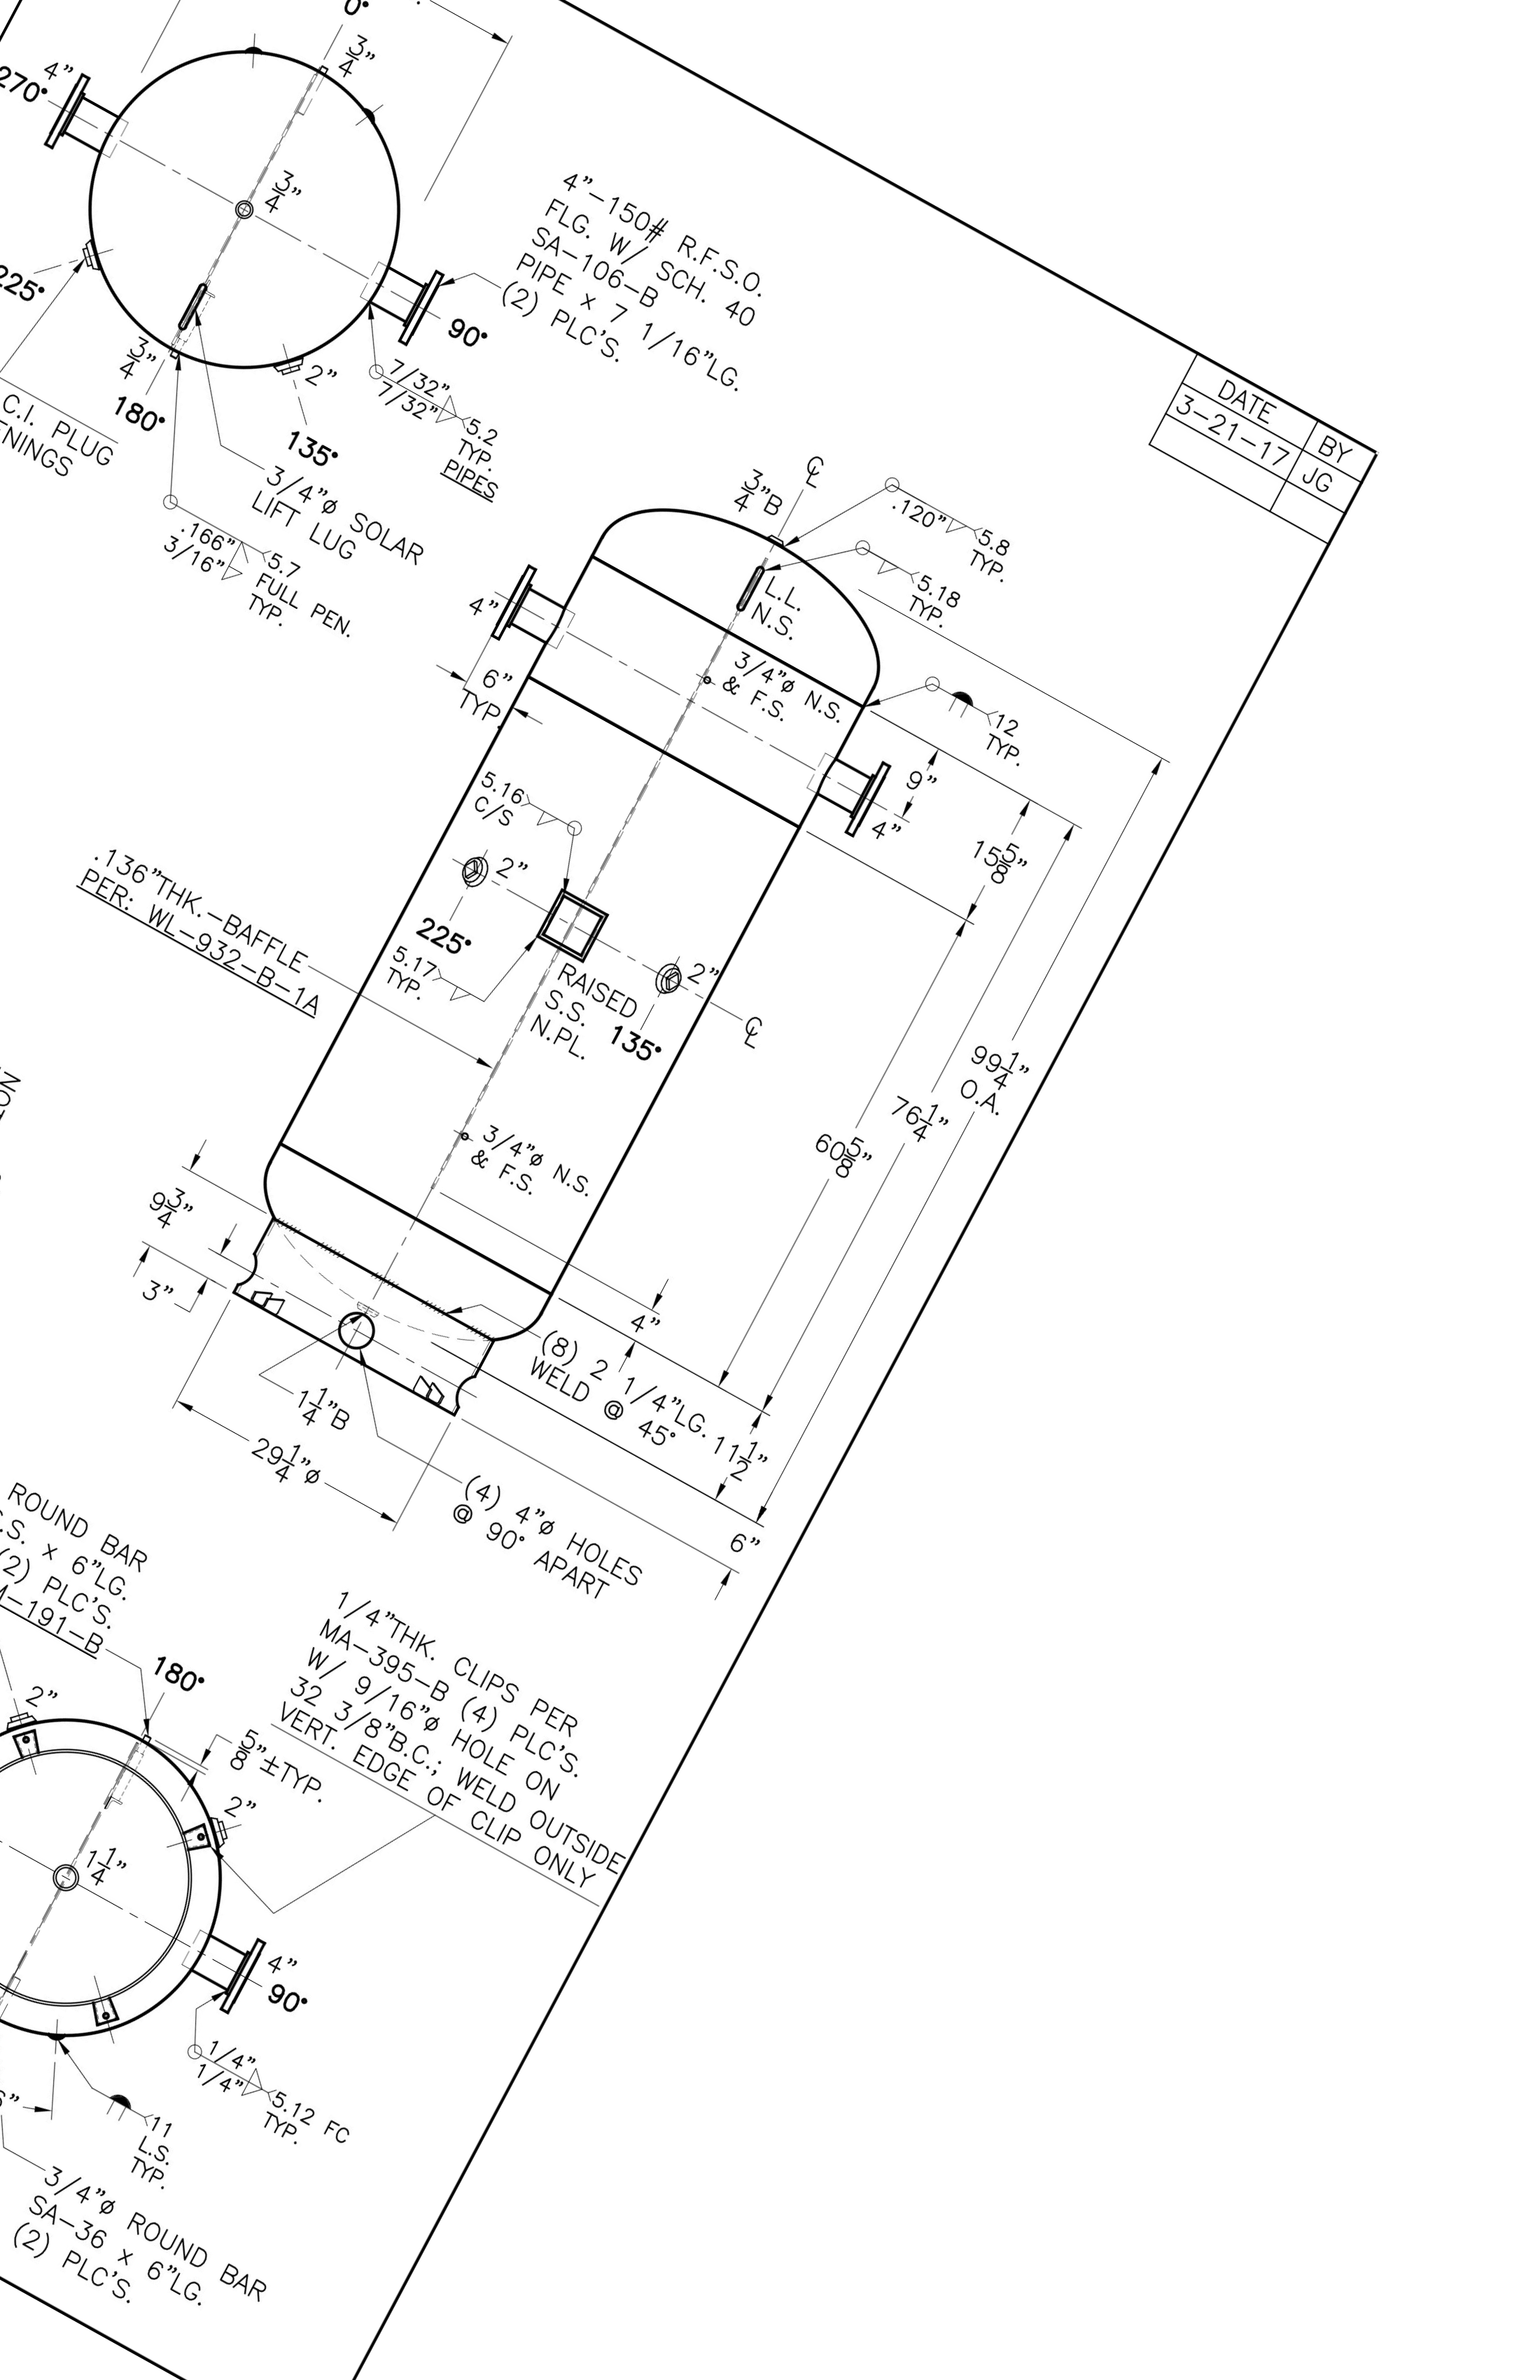Nozzle: (473, 553, 598, 677), (791, 732, 914, 857), (9, 68, 149, 168), (177, 1922, 305, 2031), (349, 265, 477, 364)
